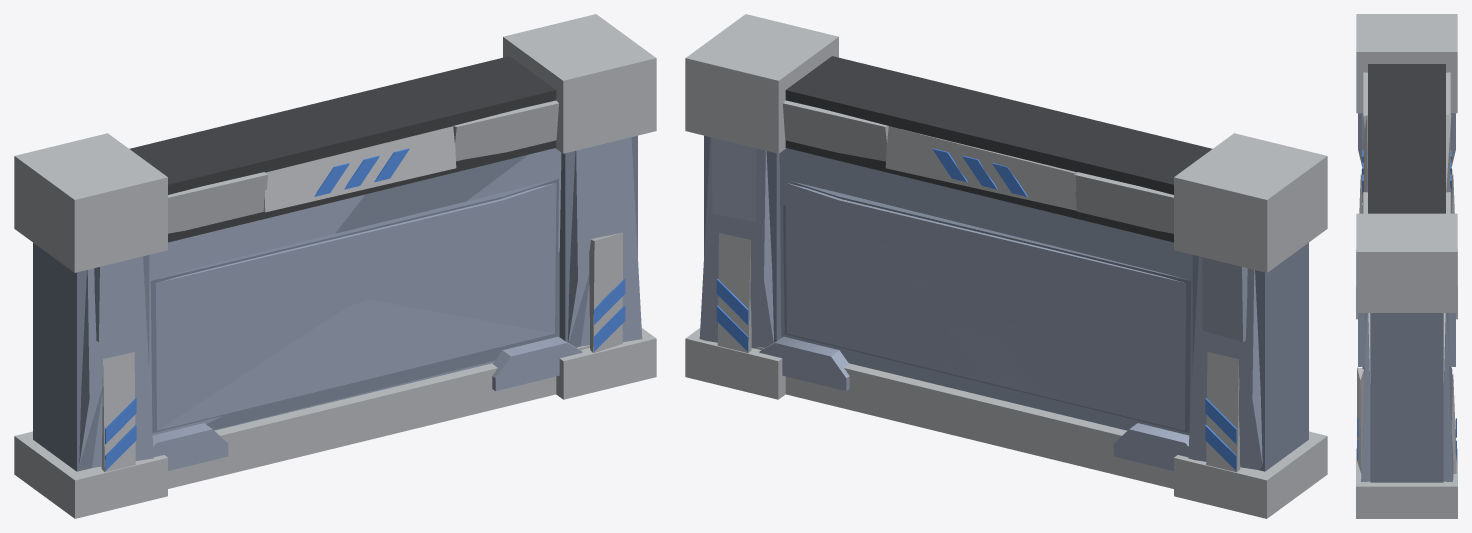
File: wall.glb
The picture shows the model from 3 angles, left to right: view 1: azimuth 30°, elevation 25°; view 2: azimuth 150°, elevation 25°; view 3: azimuth 270°, elevation 25°; orthographic projection. The views are drawn at different scales.
Parts seen in each view (by area): view 1: Base; view 2: Base; view 3: Base.
Boxes of the visible parts, x1=… form: Base: x1=14, y1=14, x2=656, y2=518; Base: x1=685, y1=14, x2=1327, y2=518; Base: x1=1356, y1=14, x2=1457, y2=518.
Bounding box in the file's own units: 4.76 × 2.5 × 0.8612.
